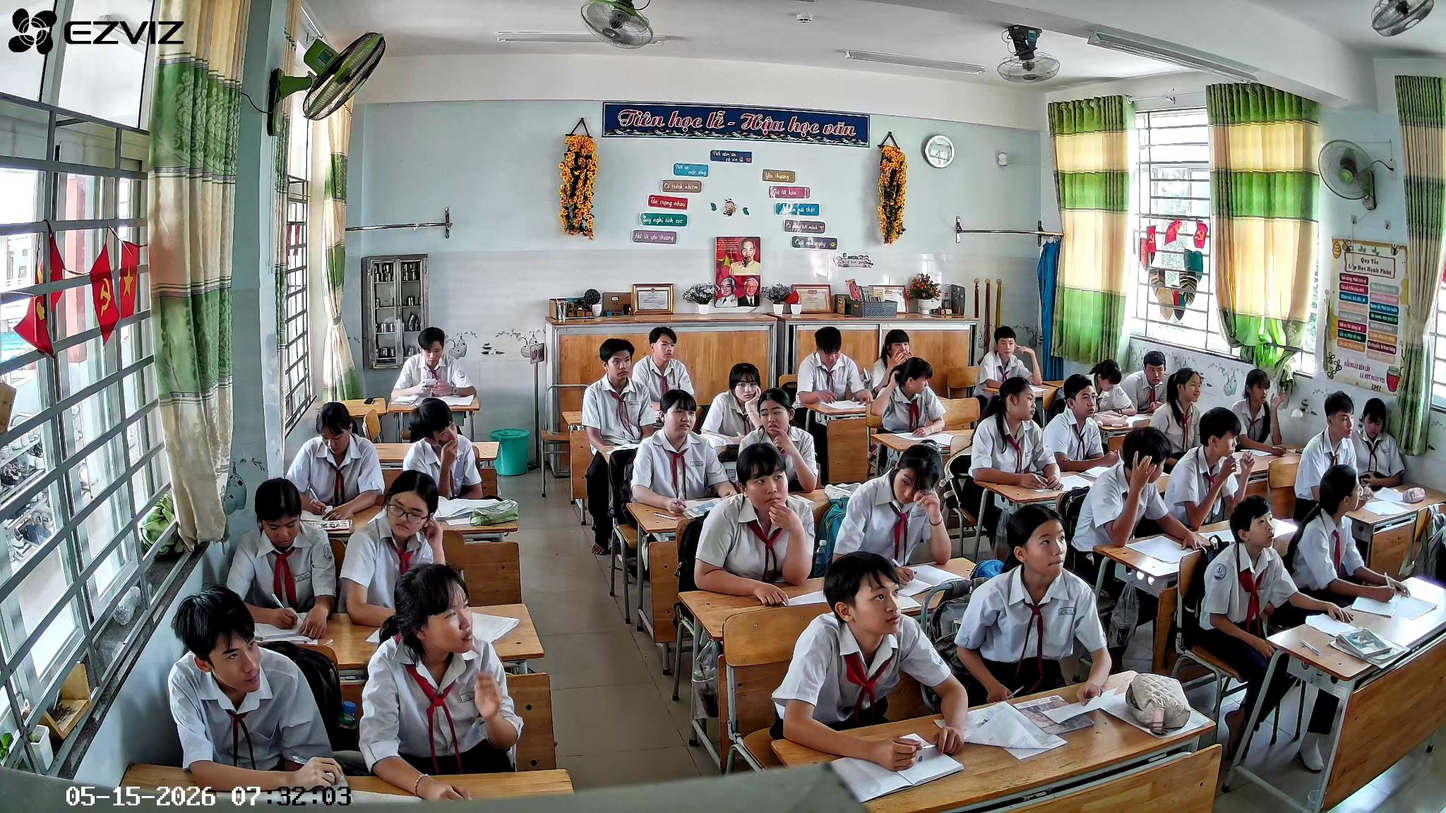person: (770, 551, 970, 771), (1197, 495, 1353, 773), (359, 563, 525, 802), (165, 585, 347, 797), (952, 504, 1114, 708), (1070, 428, 1205, 604), (693, 443, 818, 606), (224, 478, 339, 641), (1288, 465, 1413, 606), (830, 445, 952, 589), (582, 337, 661, 556), (338, 468, 446, 627), (625, 389, 738, 517), (794, 325, 875, 481), (286, 402, 386, 520), (1162, 406, 1256, 529), (968, 376, 1065, 494), (737, 388, 823, 494), (401, 397, 487, 501), (1293, 391, 1361, 519), (1043, 374, 1120, 473), (389, 326, 477, 402), (865, 357, 946, 439), (699, 363, 770, 451), (631, 327, 697, 414), (1147, 368, 1202, 467), (1228, 369, 1286, 457), (975, 325, 1044, 397), (1353, 399, 1407, 489), (1118, 352, 1170, 415), (864, 330, 911, 396), (1086, 359, 1139, 417)
